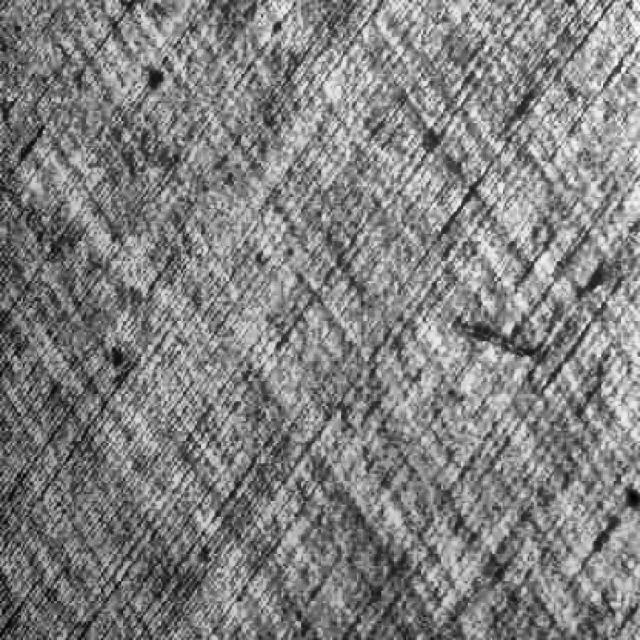objects: (438, 277, 640, 381)
